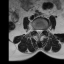CCS_normal: (38, 27, 40, 36)
LFS_stenosis: (42, 26, 45, 33)
LLS_normal: (40, 26, 42, 35)
RFS_normal: (33, 26, 35, 33)
RLS_normal: (35, 27, 38, 35)
